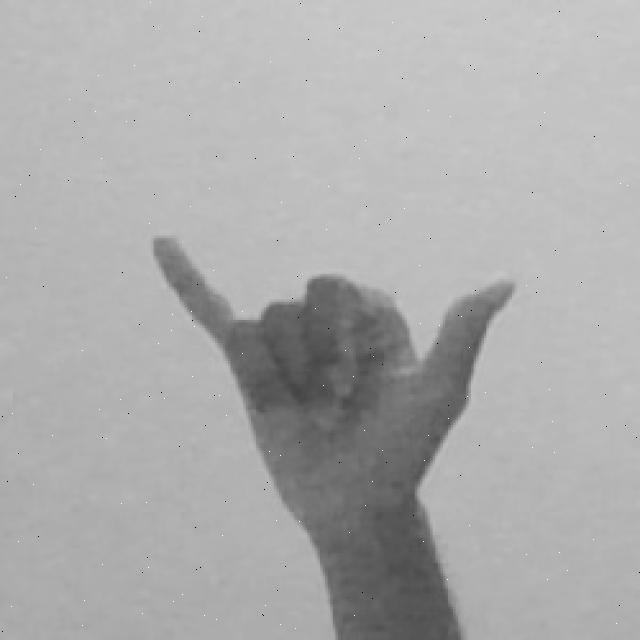Y: (148, 225, 520, 640)
